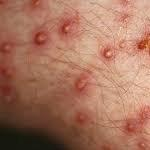Ants: (74, 72, 90, 93), (116, 10, 133, 29), (0, 83, 15, 104), (58, 18, 73, 36), (137, 103, 149, 124), (138, 33, 149, 55), (0, 63, 15, 79), (100, 45, 114, 60), (124, 118, 137, 134), (34, 31, 46, 44), (76, 112, 89, 123), (136, 138, 149, 149), (0, 42, 11, 53), (120, 0, 133, 9), (31, 0, 43, 9), (116, 39, 126, 49)
